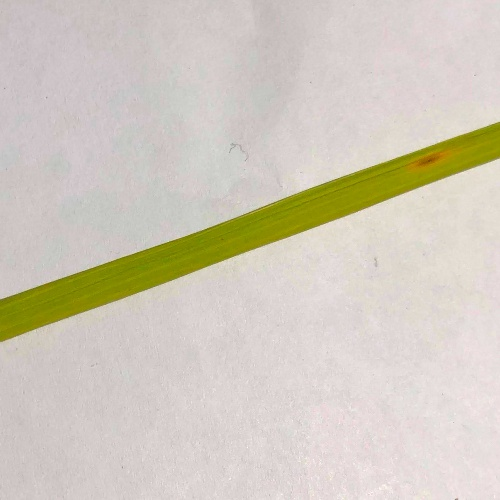Bercak Coklat: (402, 150, 462, 170)
